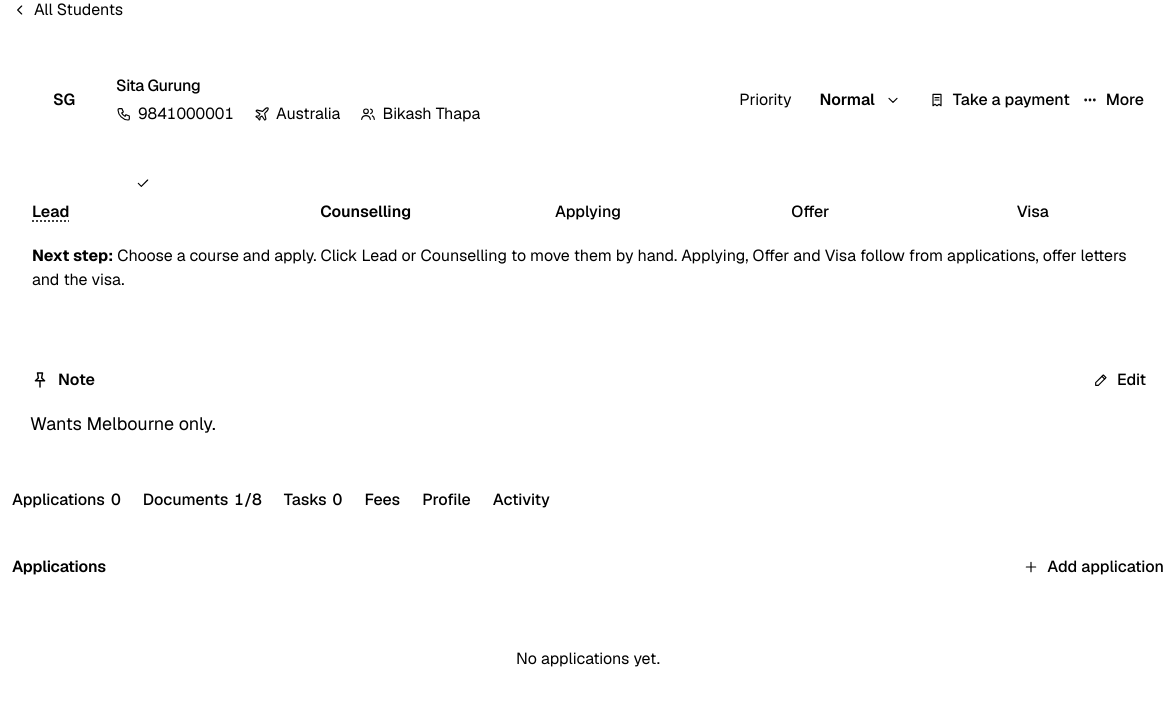
the Fees tab, for an Admin › shows the agreed fees, paid so far and still to pay, the Fees and the Payments
Click the tab "Fees". click: (382, 500)
box: [364, 478, 400, 522]
(page scrolled)
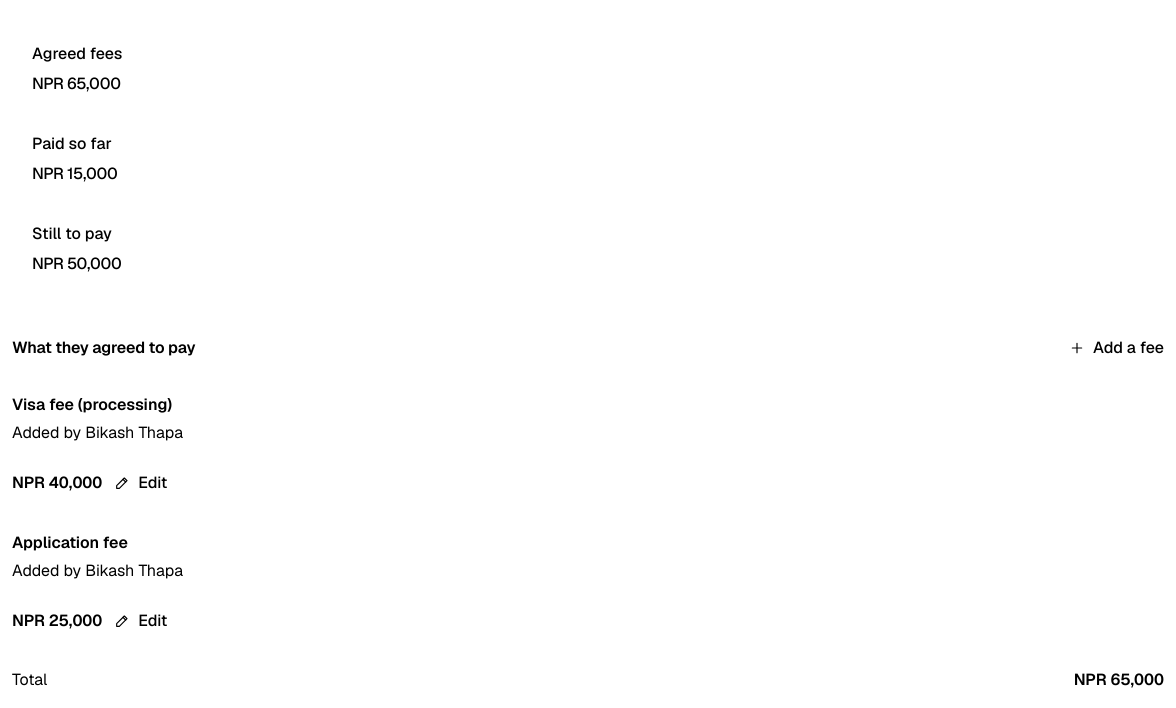
Now the text "Agreed fees" is shown, box [32, 43, 122, 64]
Now the text "NPR 65,000" below "Agreed fees" is shown, box [32, 73, 120, 94]
Now the text "NPR 15,000" is shown, box [32, 163, 117, 184]
